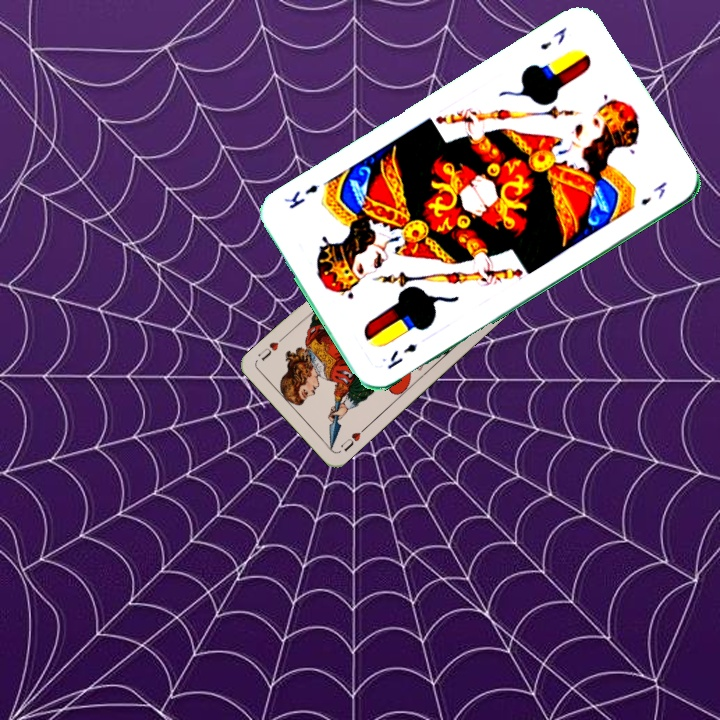EK: (382, 339, 420, 372), (536, 23, 570, 53)
HU: (336, 423, 368, 454)
